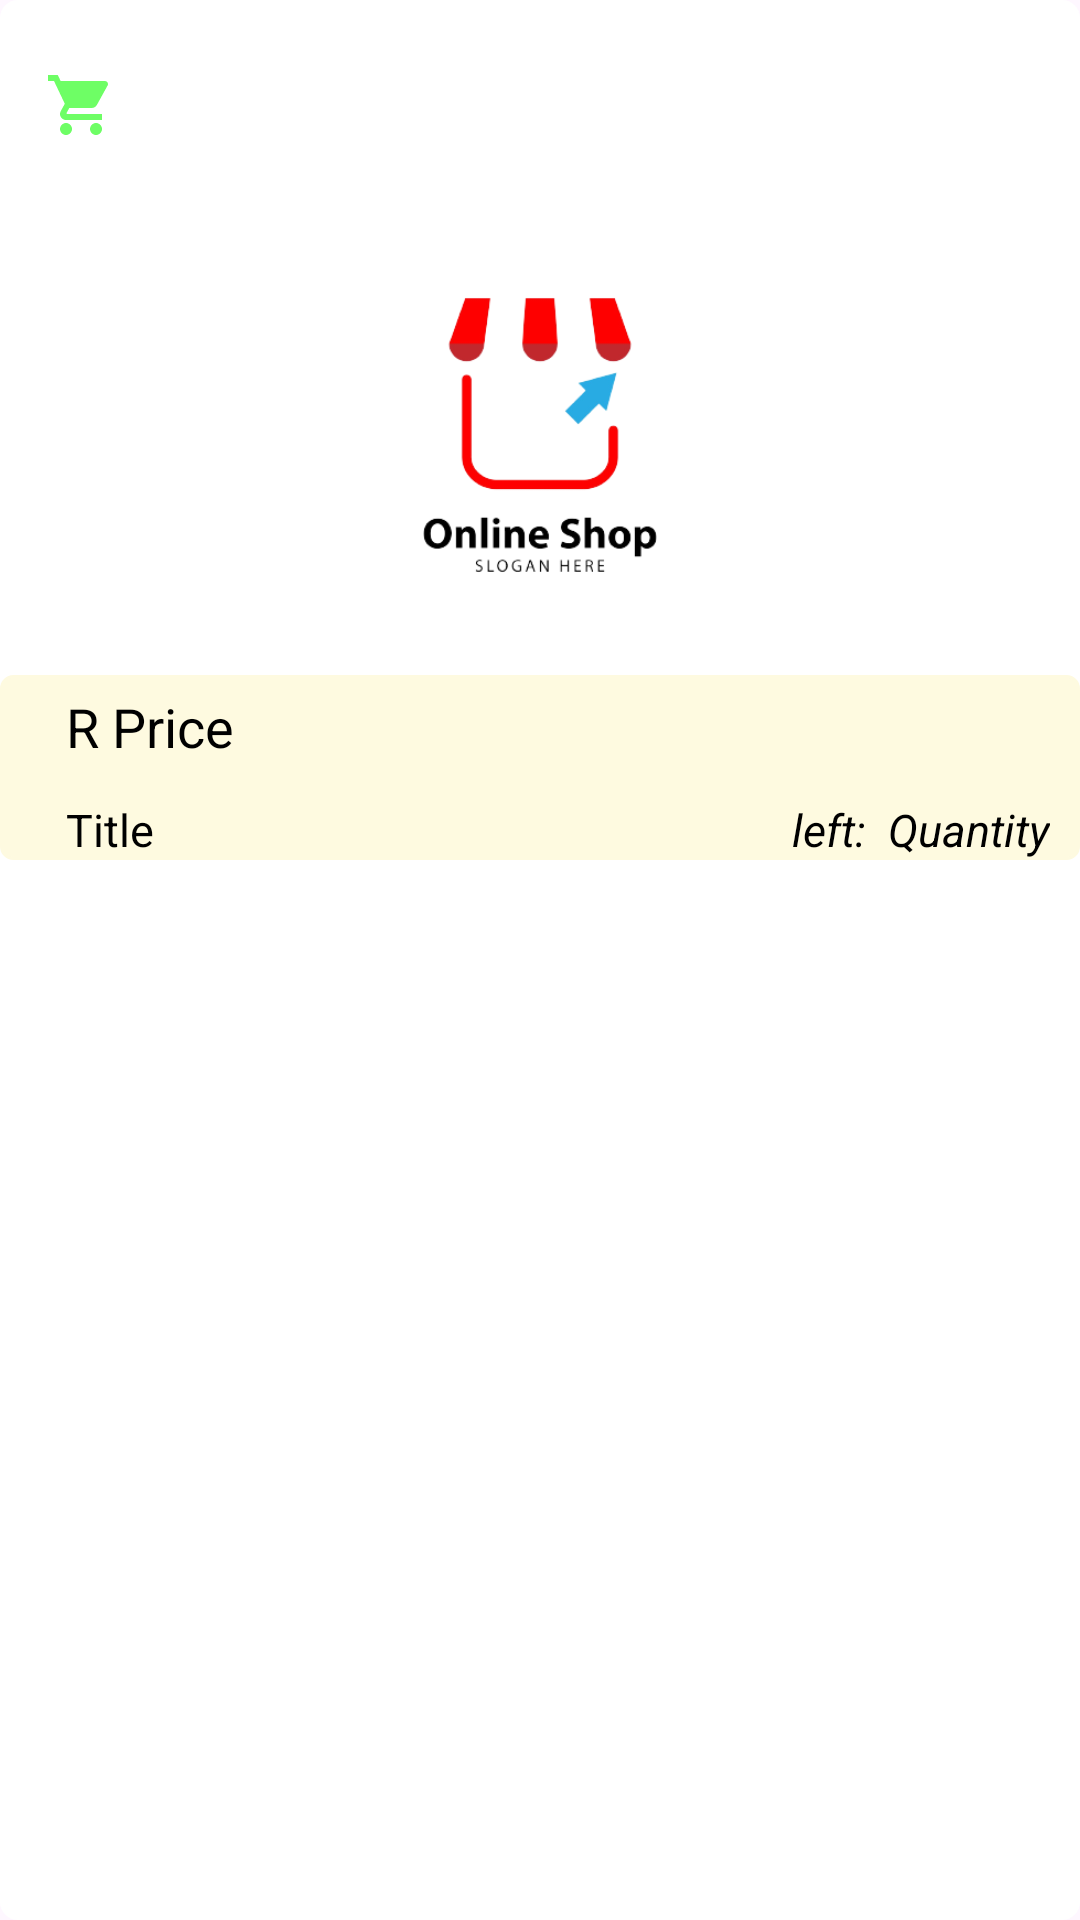

Where to tap for icons on this 1080 x 1920 app screen, as (x=x, y=y):
cart: (x=78, y=105)
